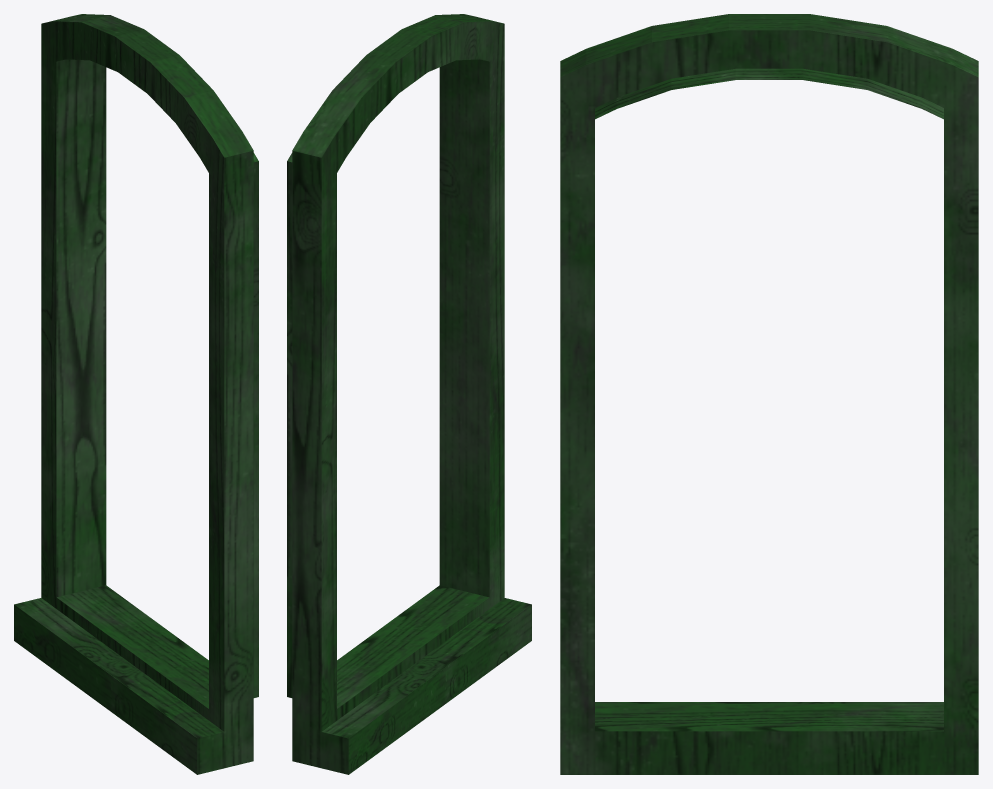
The model's file is VentanasA_2.fbx.
The picture shows the model from 3 angles, left to right: view 1: azimuth 30°, elevation 25°; view 2: azimuth 150°, elevation 25°; view 3: azimuth 270°, elevation 25°; orthographic projection. The views are drawn at different scales.
Parts seen in each view (by area): view 1: Cube.019; view 2: Cube.019; view 3: Cube.019.
Boxes of the visible parts, box(x1,y1,x2,y2) form: Cube.019: box(14, 14, 258, 774); Cube.019: box(287, 14, 531, 774); Cube.019: box(560, 14, 978, 774).
Bounding box in the file's own units: 18.28 × 148 × 75.43.
